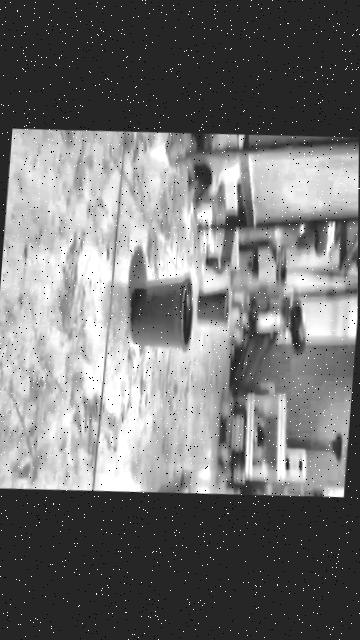pot: (128, 269, 197, 351), (198, 284, 232, 325)
